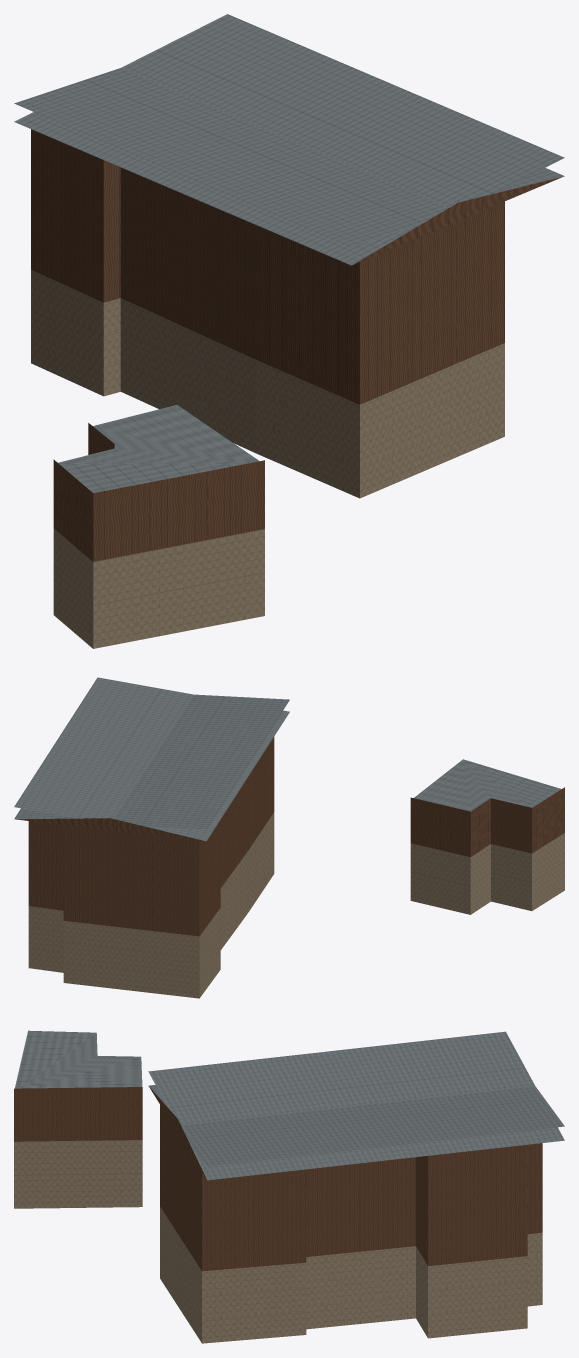
File: bld_c-25_26_736.gltf
3 renders of one model, top to bottom at view 1: azimuth 30°, elevation 25°; view 2: azimuth 150°, elevation 25°; view 3: azimuth 270°, elevation 25°, orthographic. The views are drawn at different scales.
Parts seen in each view (by area): view 1: bld_c-25_26_736; view 2: bld_c-25_26_736; view 3: bld_c-25_26_736.
Boxes of the visible parts, x1,y1,x2,y2 form: bld_c-25_26_736: [14, 14, 564, 648]; bld_c-25_26_736: [14, 677, 564, 998]; bld_c-25_26_736: [14, 1030, 564, 1343].
Bounding box in the file's own units: 33.51 × 14.3 × 35.24.
Materials: 4 (4 with a texture image).
